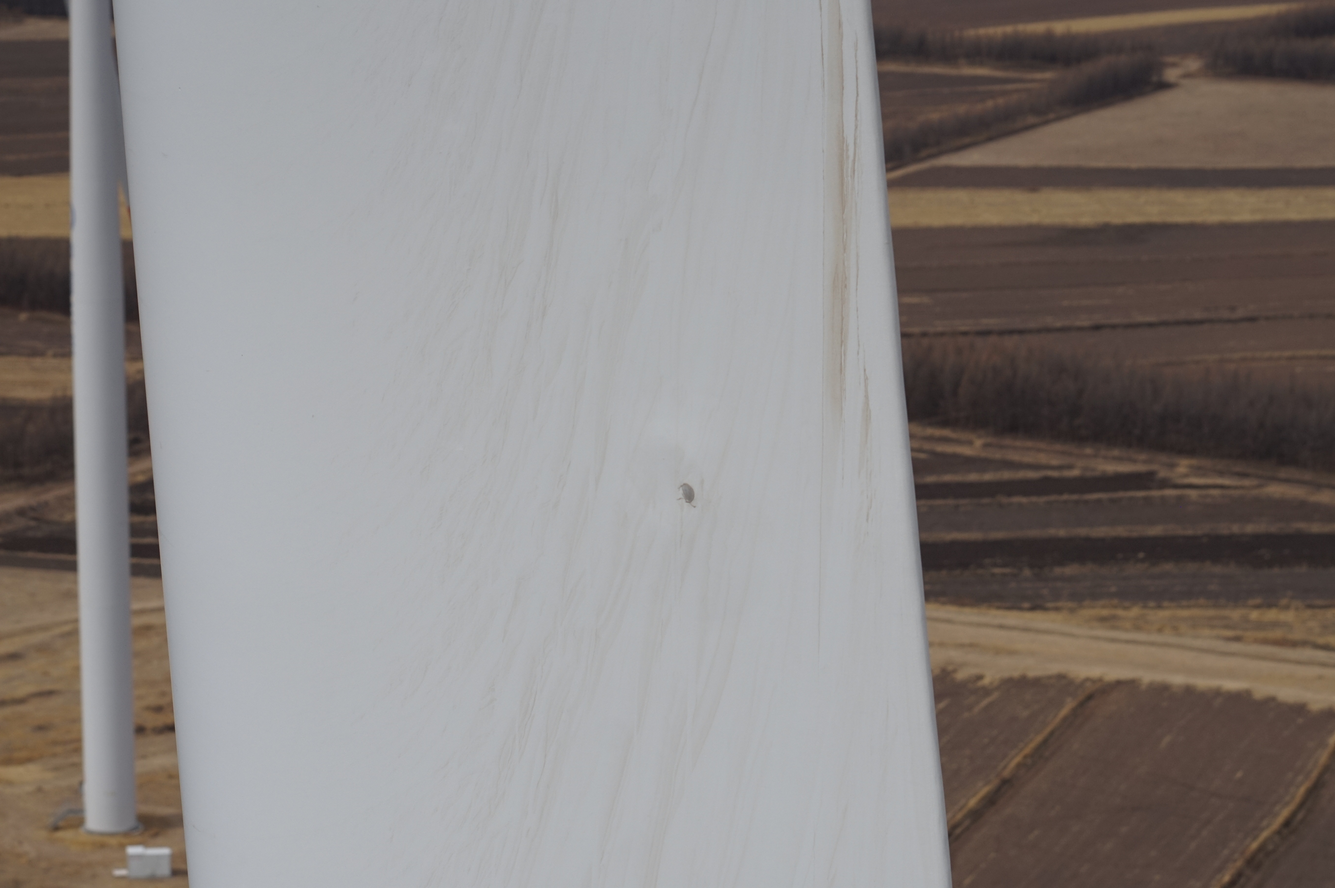Dirt: (819, 3, 859, 422)
